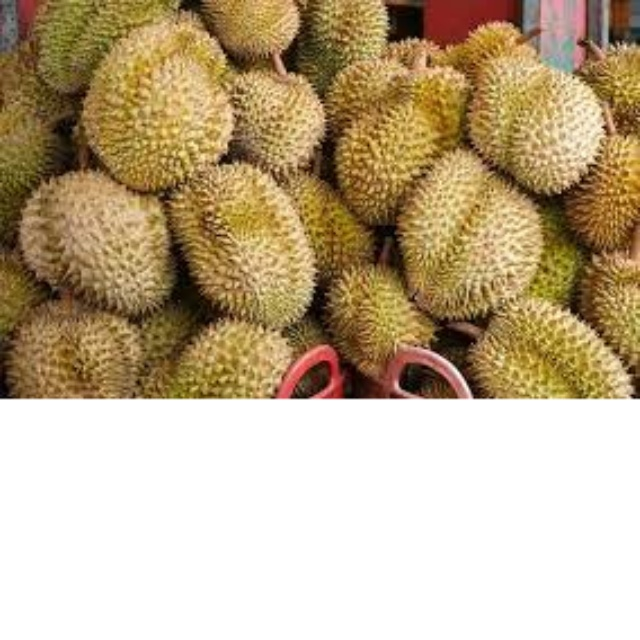sau_rieng: (78, 17, 238, 192), (166, 163, 322, 326), (397, 149, 546, 313), (20, 166, 178, 311), (468, 56, 600, 186), (472, 302, 632, 400), (7, 301, 150, 397), (335, 94, 440, 221), (227, 55, 324, 174), (325, 265, 436, 347)
